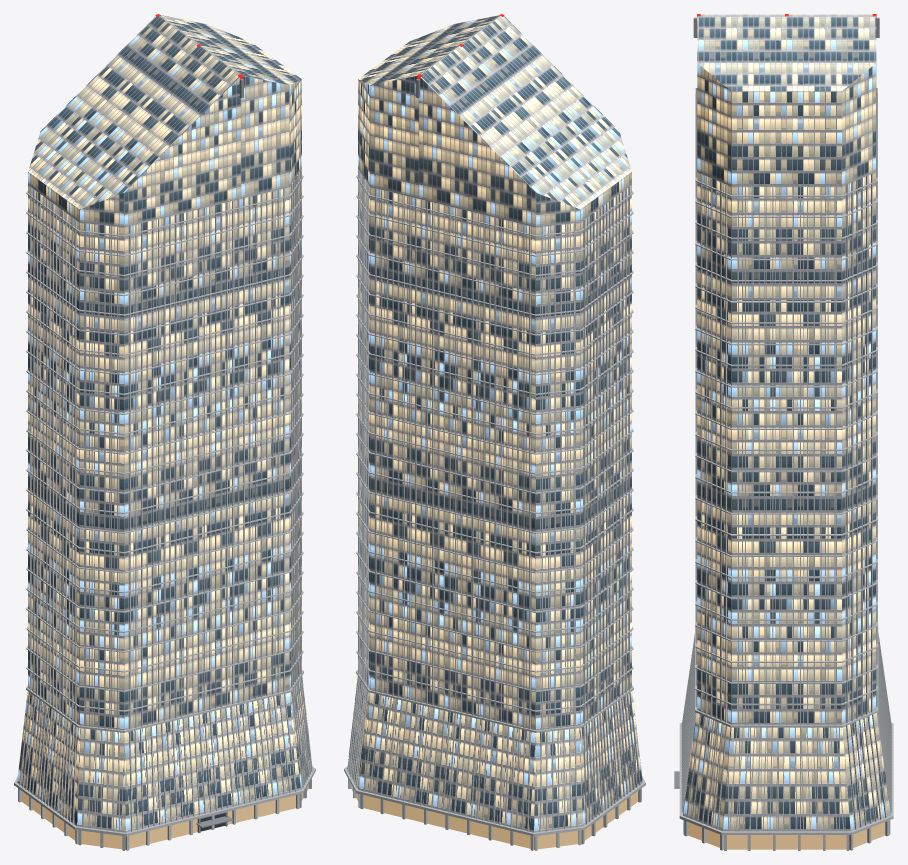
Rendered from toranomon_hills_mori_tower.glb.
3 renders of one model, left to right at view 1: azimuth 30°, elevation 25°; view 2: azimuth 150°, elevation 25°; view 3: azimuth 270°, elevation 25°, orthographic. The views are drawn at different scales.
Parts seen in each view (by area): view 1: toranomon_hills_mori_tower; view 2: toranomon_hills_mori_tower; view 3: toranomon_hills_mori_tower.
Boxes of the visible parts, x1,y1,x2,y2 form: toranomon_hills_mori_tower: (14, 14, 315, 850); toranomon_hills_mori_tower: (344, 14, 645, 850); toranomon_hills_mori_tower: (674, 14, 893, 850).
Size of the model in its own units: 84 by 247 by 62.
2 materials, 2 textured.
